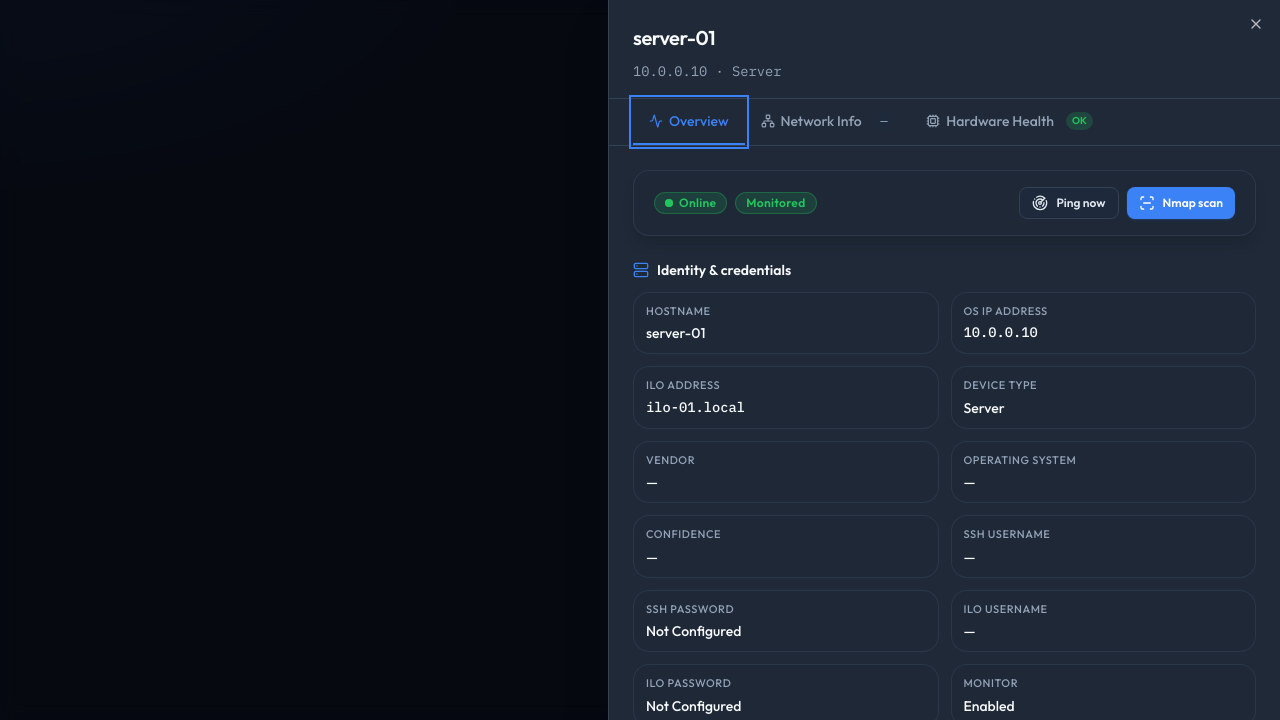
DeviceDrawer - HPE iLO Hardware & Freshness UI › 2. Stale state: renders Stale badge and stale warning banner
This screenshot has width=1280, height=720.
Step 1. Click the button "Hardware Health OK" → [1010, 122], box [910,99,1109,145]
(page scrolled)
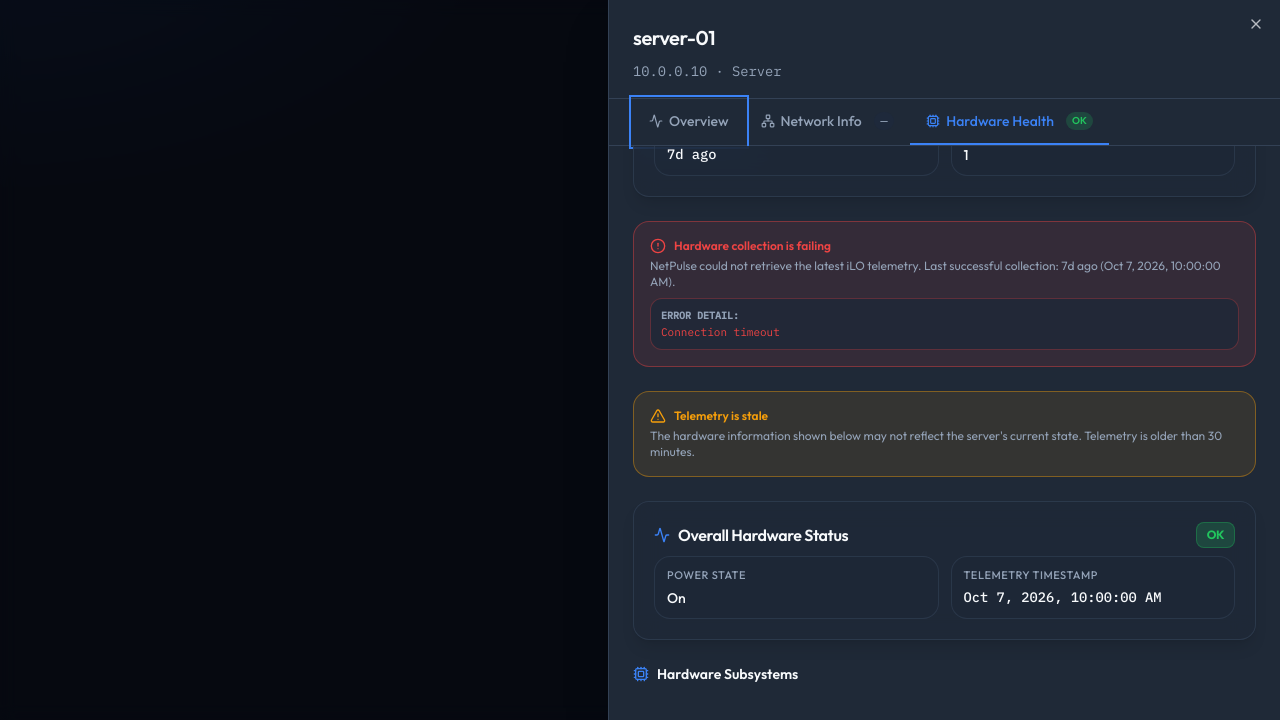
Check: the text "Telemetry is stale" is shown, box [674,408,768,424]
Check: the text "The hardware information shown below may not reflect the server's current state" is shown, box [650,428,1222,459]
